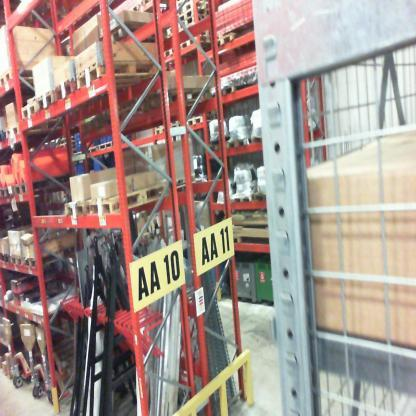pallets: (11, 56, 160, 123), (64, 182, 169, 218), (161, 26, 217, 65), (0, 238, 48, 270), (173, 0, 204, 37), (0, 171, 44, 195), (0, 73, 14, 88)
